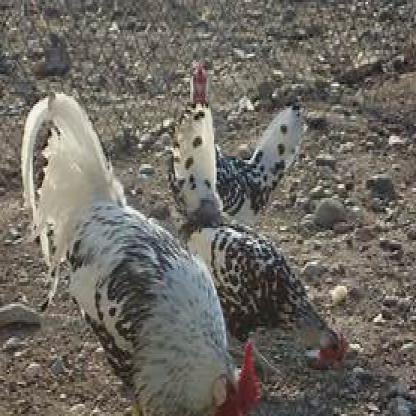chicken: (24, 86, 263, 414), (184, 188, 361, 368), (172, 66, 308, 208)
